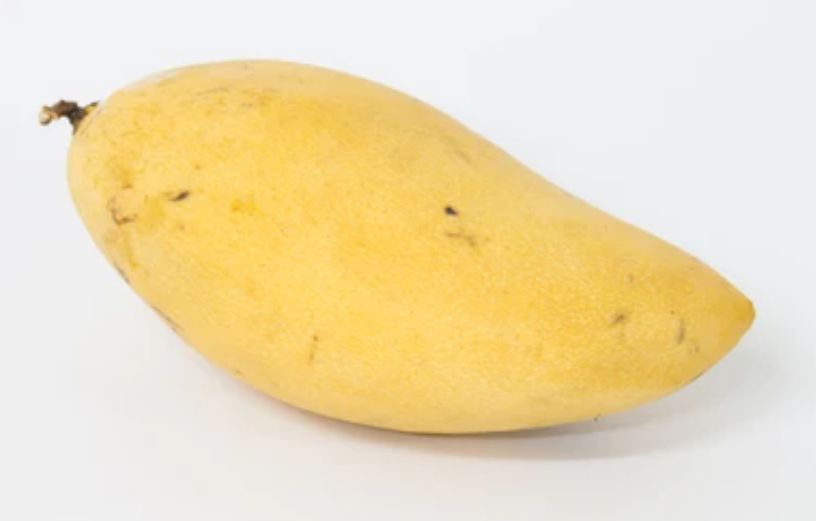mango: (65, 57, 755, 432)
